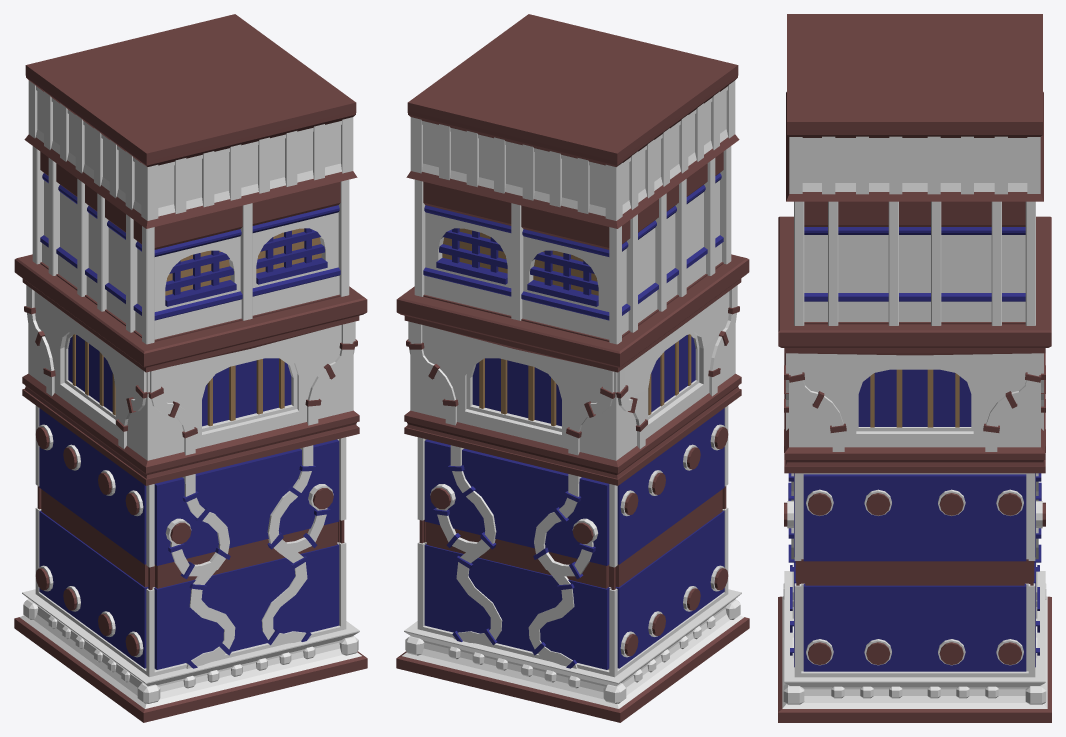
Rendered from floor7.fbx.
3 renders of one model, left to right at view 1: azimuth 30°, elevation 25°; view 2: azimuth 150°, elevation 25°; view 3: azimuth 270°, elevation 25°, orthographic. The views are drawn at different scales.
Parts seen in each view (by area): view 1: floor7.1, floor7.2, floor7.4, floor7.3, floor7.0, floor7.1Decor, floor7.3Decor, floor7.4Decor, floor7.2Decor, floor7.0Decor; view 2: floor7.1, floor7.2, floor7.4, floor7.3, floor7.0, floor7.1Decor, floor7.3Decor, floor7.4Decor, floor7.2Decor, floor7.0Decor; view 3: floor7.1, floor7.4, floor7.2, floor7.3, floor7.0, floor7.3Decor, floor7.1Decor, floor7.4Decor, floor7.2Decor, floor7.0Decor.
Boxes of the visible parts, box(x1,y1,x2,y2) form: floor7.1: box(35, 405, 346, 677); floor7.2: box(14, 254, 367, 485); floor7.4: box(24, 14, 357, 228); floor7.3: box(40, 151, 340, 341); floor7.0: box(14, 589, 367, 722); floor7.1Decor: box(35, 424, 333, 668); floor7.3Decor: box(32, 146, 349, 344); floor7.4Decor: box(28, 80, 353, 220); floor7.2Decor: box(24, 285, 357, 455); floor7.0Decor: box(23, 599, 358, 703); floor7.1: box(417, 405, 728, 677); floor7.2: box(396, 254, 749, 485); floor7.4: box(406, 14, 739, 228); floor7.3: box(423, 151, 723, 341); floor7.0: box(396, 589, 749, 722); floor7.1Decor: box(430, 424, 728, 668); floor7.3Decor: box(414, 146, 731, 344); floor7.4Decor: box(410, 80, 735, 220); floor7.2Decor: box(406, 285, 739, 455); floor7.0Decor: box(405, 599, 740, 703); floor7.1: box(794, 473, 1035, 677); floor7.4: box(786, 14, 1043, 201); floor7.2: box(778, 216, 1051, 473); floor7.3: box(804, 201, 1025, 324); floor7.0: box(778, 571, 1051, 722); floor7.3Decor: box(794, 201, 1035, 325); floor7.1Decor: box(784, 429, 1045, 665); floor7.4Decor: box(789, 136, 1040, 194); floor7.2Decor: box(784, 353, 1045, 451); floor7.0Decor: box(783, 583, 1046, 704).
Size of the model in its own units: 223 by 538 by 223.
